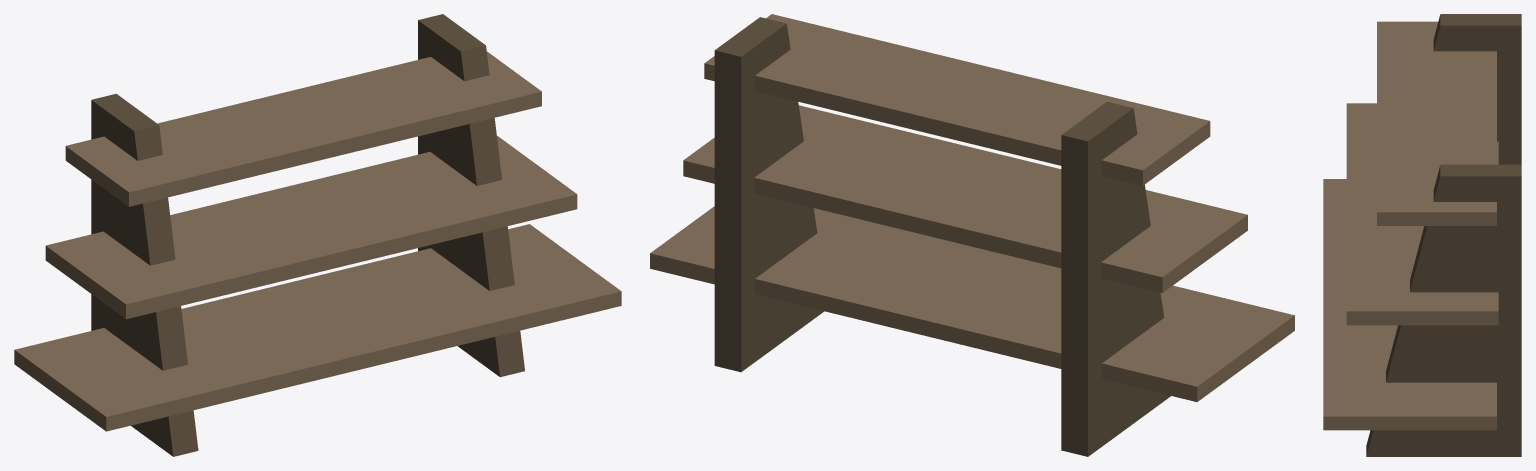
Rendered from market_table_a.FBX.
The picture shows the model from 3 angles, left to right: view 1: azimuth 30°, elevation 25°; view 2: azimuth 150°, elevation 25°; view 3: azimuth 270°, elevation 25°; orthographic projection. The views are drawn at different scales.
Parts seen in each view (by area): view 1: market_table_a; view 2: market_table_a; view 3: market_table_a.
Boxes of the visible parts, x1,y1,x2,y2 form: market_table_a: [14, 14, 621, 456]; market_table_a: [650, 14, 1294, 456]; market_table_a: [1323, 14, 1521, 456].
Size of the model in its own units: 3.02 by 1.66 by 1.06.
